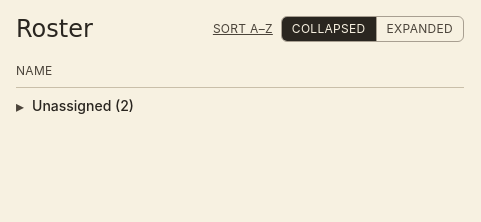
Test: /roster — ready state › renders each row (name always shown; a row with no email omits the email node entirely, not just an empty string)
Click the button with test id "section-toggle-unassigned" at (83, 106), box x1=16 y1=88 x2=464 y2=124
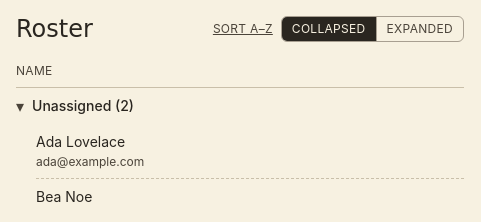
expect the list item with test id "roster-row-member-1" is shown: met, box x1=36 y1=124 x2=464 y2=179
expect the list item with test id "roster-row-member-1" shows "Ada Lovelace": met, box x1=36 y1=133 x2=125 y2=150
expect the list item with test id "roster-row-member-1" shows "ada@example.com": met, box x1=36 y1=154 x2=144 y2=169
